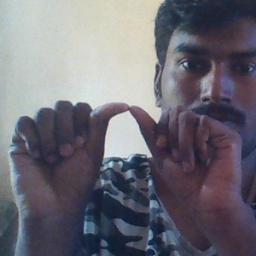A: (41, 85, 205, 199)
